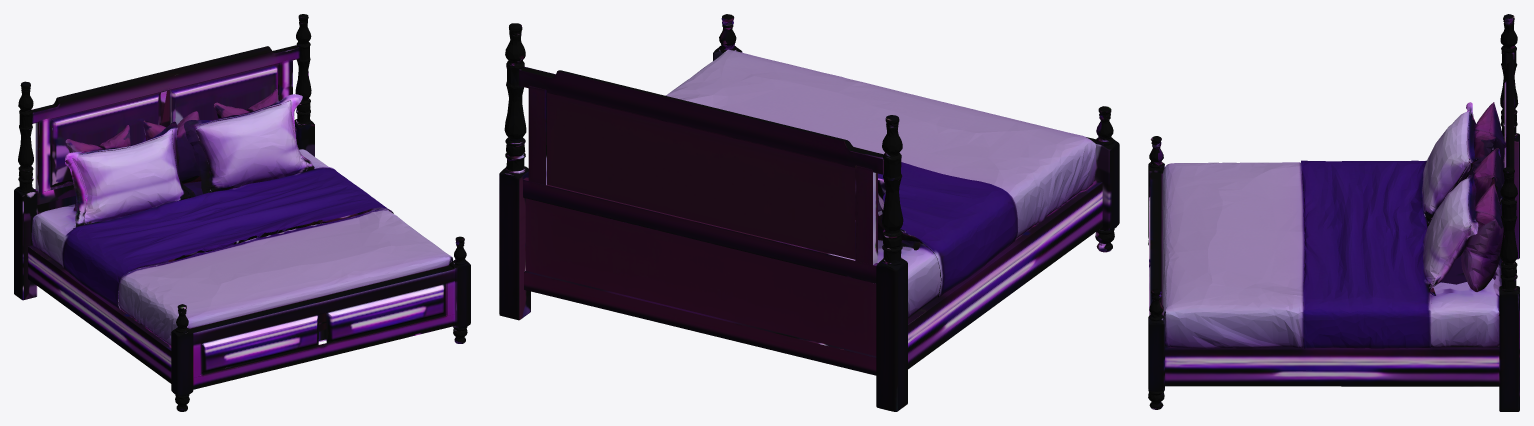
The model's file is edited_mesh.glb.
3 views of the same model, side by side, from view 1: azimuth 30°, elevation 25°; view 2: azimuth 150°, elevation 25°; view 3: azimuth 270°, elevation 25° (orthographic). The views are drawn at different scales.
Parts seen in each view (by area): view 1: solid_001_wire; view 2: solid_001_wire; view 3: solid_001_wire.
Boxes of the visible parts, x1,y1,x2,y2 form: solid_001_wire: (14, 14, 470, 411); solid_001_wire: (499, 14, 1119, 411); solid_001_wire: (1148, 14, 1519, 411).
Size of the model in its own units: 1.68 by 1.16 by 1.63.
1 material, 1 textured.
